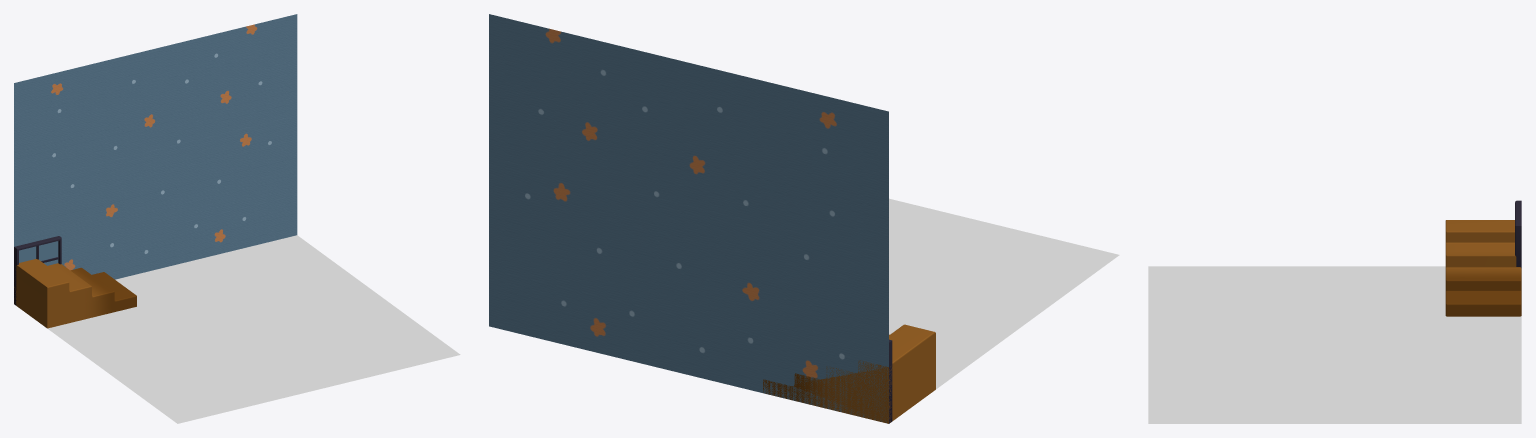
The model's file is Grp_Base_House.fbx.
3 views of the same model, side by side, from view 1: azimuth 30°, elevation 25°; view 2: azimuth 150°, elevation 25°; view 3: azimuth 270°, elevation 25° (orthographic). The views are drawn at different scales.
Visible parts, largest first — view 1: SM_Wall_01, SM_Floor_01, SM_Celling_01, SM_Stairs_01, SM_WIndow_01; view 2: SM_Wall_01, SM_Floor_01, SM_Celling_01, SM_Stairs_01; view 3: SM_Floor_01, SM_Celling_01, SM_Stairs_01, SM_WIndow_01.
Boxes of the visible parts, <box> form: SM_Wall_01: <box>14,14,297,279</box>; SM_Floor_01: <box>47,235,460,423</box>; SM_Celling_01: <box>48,236,459,414</box>; SM_Stairs_01: <box>14,259,136,328</box>; SM_WIndow_01: <box>14,236,61,305</box>; SM_Wall_01: <box>489,14,888,423</box>; SM_Floor_01: <box>889,198,1119,388</box>; SM_Celling_01: <box>889,199,1103,387</box>; SM_Stairs_01: <box>763,324,935,423</box>; SM_Floor_01: <box>1148,266,1521,423</box>; SM_Celling_01: <box>1148,266,1521,423</box>; SM_Stairs_01: <box>1445,220,1521,316</box>; SM_WIndow_01: <box>1515,200,1521,268</box>.
Size of the model in its own units: 641 by 478 by 641.
